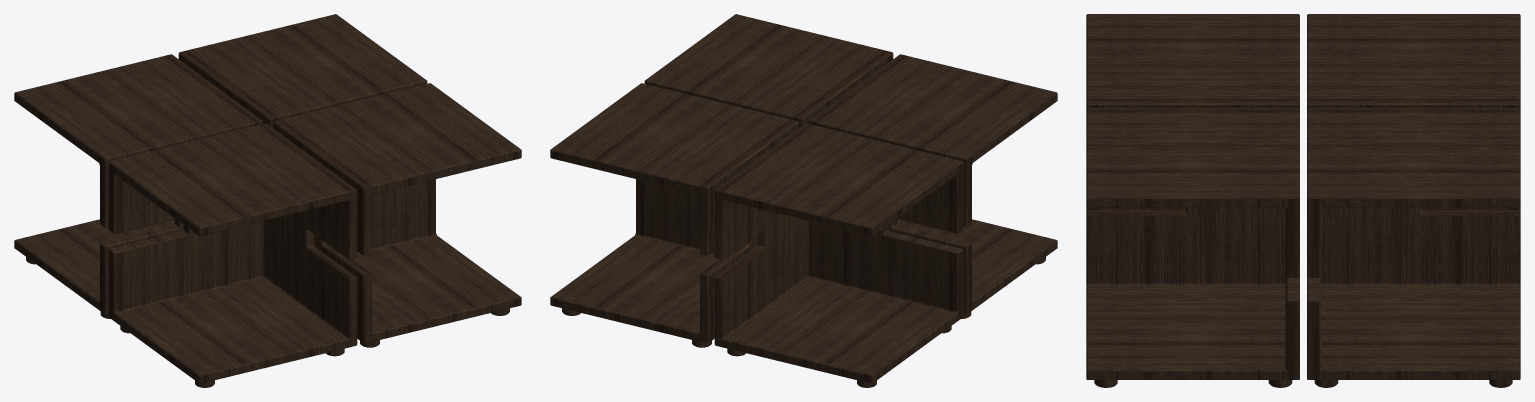
Rendered from table3.obj.
3 renders of one model, left to right at view 1: azimuth 30°, elevation 25°; view 2: azimuth 150°, elevation 25°; view 3: azimuth 270°, elevation 25°, orthographic. The views are drawn at different scales.
Visible parts, largest first — view 1: Object06, Object05, Object04, Object03; view 2: Object04, Object03, Object06, Object05; view 3: Object03, Object05, Object04, Object06.
Part boxes in pixels (bbox=[...]): Object06: bbox=[108, 123, 357, 383]; Object05: bbox=[273, 83, 521, 343]; Object04: bbox=[14, 54, 262, 314]; Object03: bbox=[178, 14, 427, 127]; Object04: bbox=[714, 123, 963, 383]; Object03: bbox=[550, 83, 798, 343]; Object06: bbox=[809, 54, 1057, 314]; Object05: bbox=[644, 14, 893, 127]; Object03: bbox=[1307, 108, 1520, 379]; Object05: bbox=[1086, 108, 1299, 379]; Object04: bbox=[1307, 14, 1520, 210]; Object06: bbox=[1086, 14, 1299, 210].
Size of the model in its own units: 932 by 457 by 929.
1 material, 1 textured.
